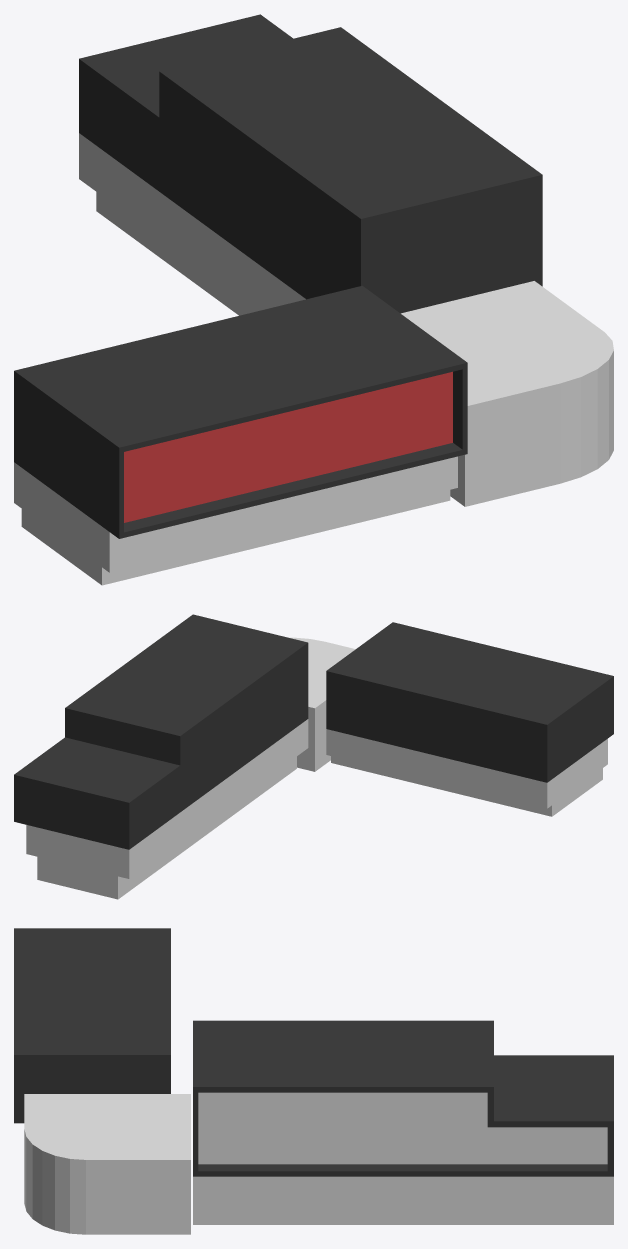
The model's file is StuffBar.fbx.
3 renders of one model, top to bottom at view 1: azimuth 30°, elevation 25°; view 2: azimuth 150°, elevation 25°; view 3: azimuth 270°, elevation 25°, orthographic. The views are drawn at different scales.
Visible parts, largest first — view 1: StuffBarBig, StuffBarSmall, StuffAngleStand; view 2: StuffBarBig, StuffBarSmall, StuffAngleStand; view 3: StuffBarBig, StuffBarSmall, StuffAngleStand.
Boxes of the visible parts, bbox=[...] form: StuffBarBig: bbox=[79, 14, 542, 315]; StuffBarSmall: bbox=[14, 285, 467, 585]; StuffAngleStand: bbox=[401, 281, 613, 506]; StuffBarBig: bbox=[14, 614, 308, 899]; StuffBarSmall: bbox=[326, 622, 613, 816]; StuffAngleStand: bbox=[289, 637, 355, 771]; StuffBarBig: bbox=[193, 1020, 613, 1224]; StuffBarSmall: bbox=[14, 928, 170, 1123]; StuffAngleStand: bbox=[24, 1094, 190, 1234].
Size of the model in its own units: 624 by 223 by 800.
